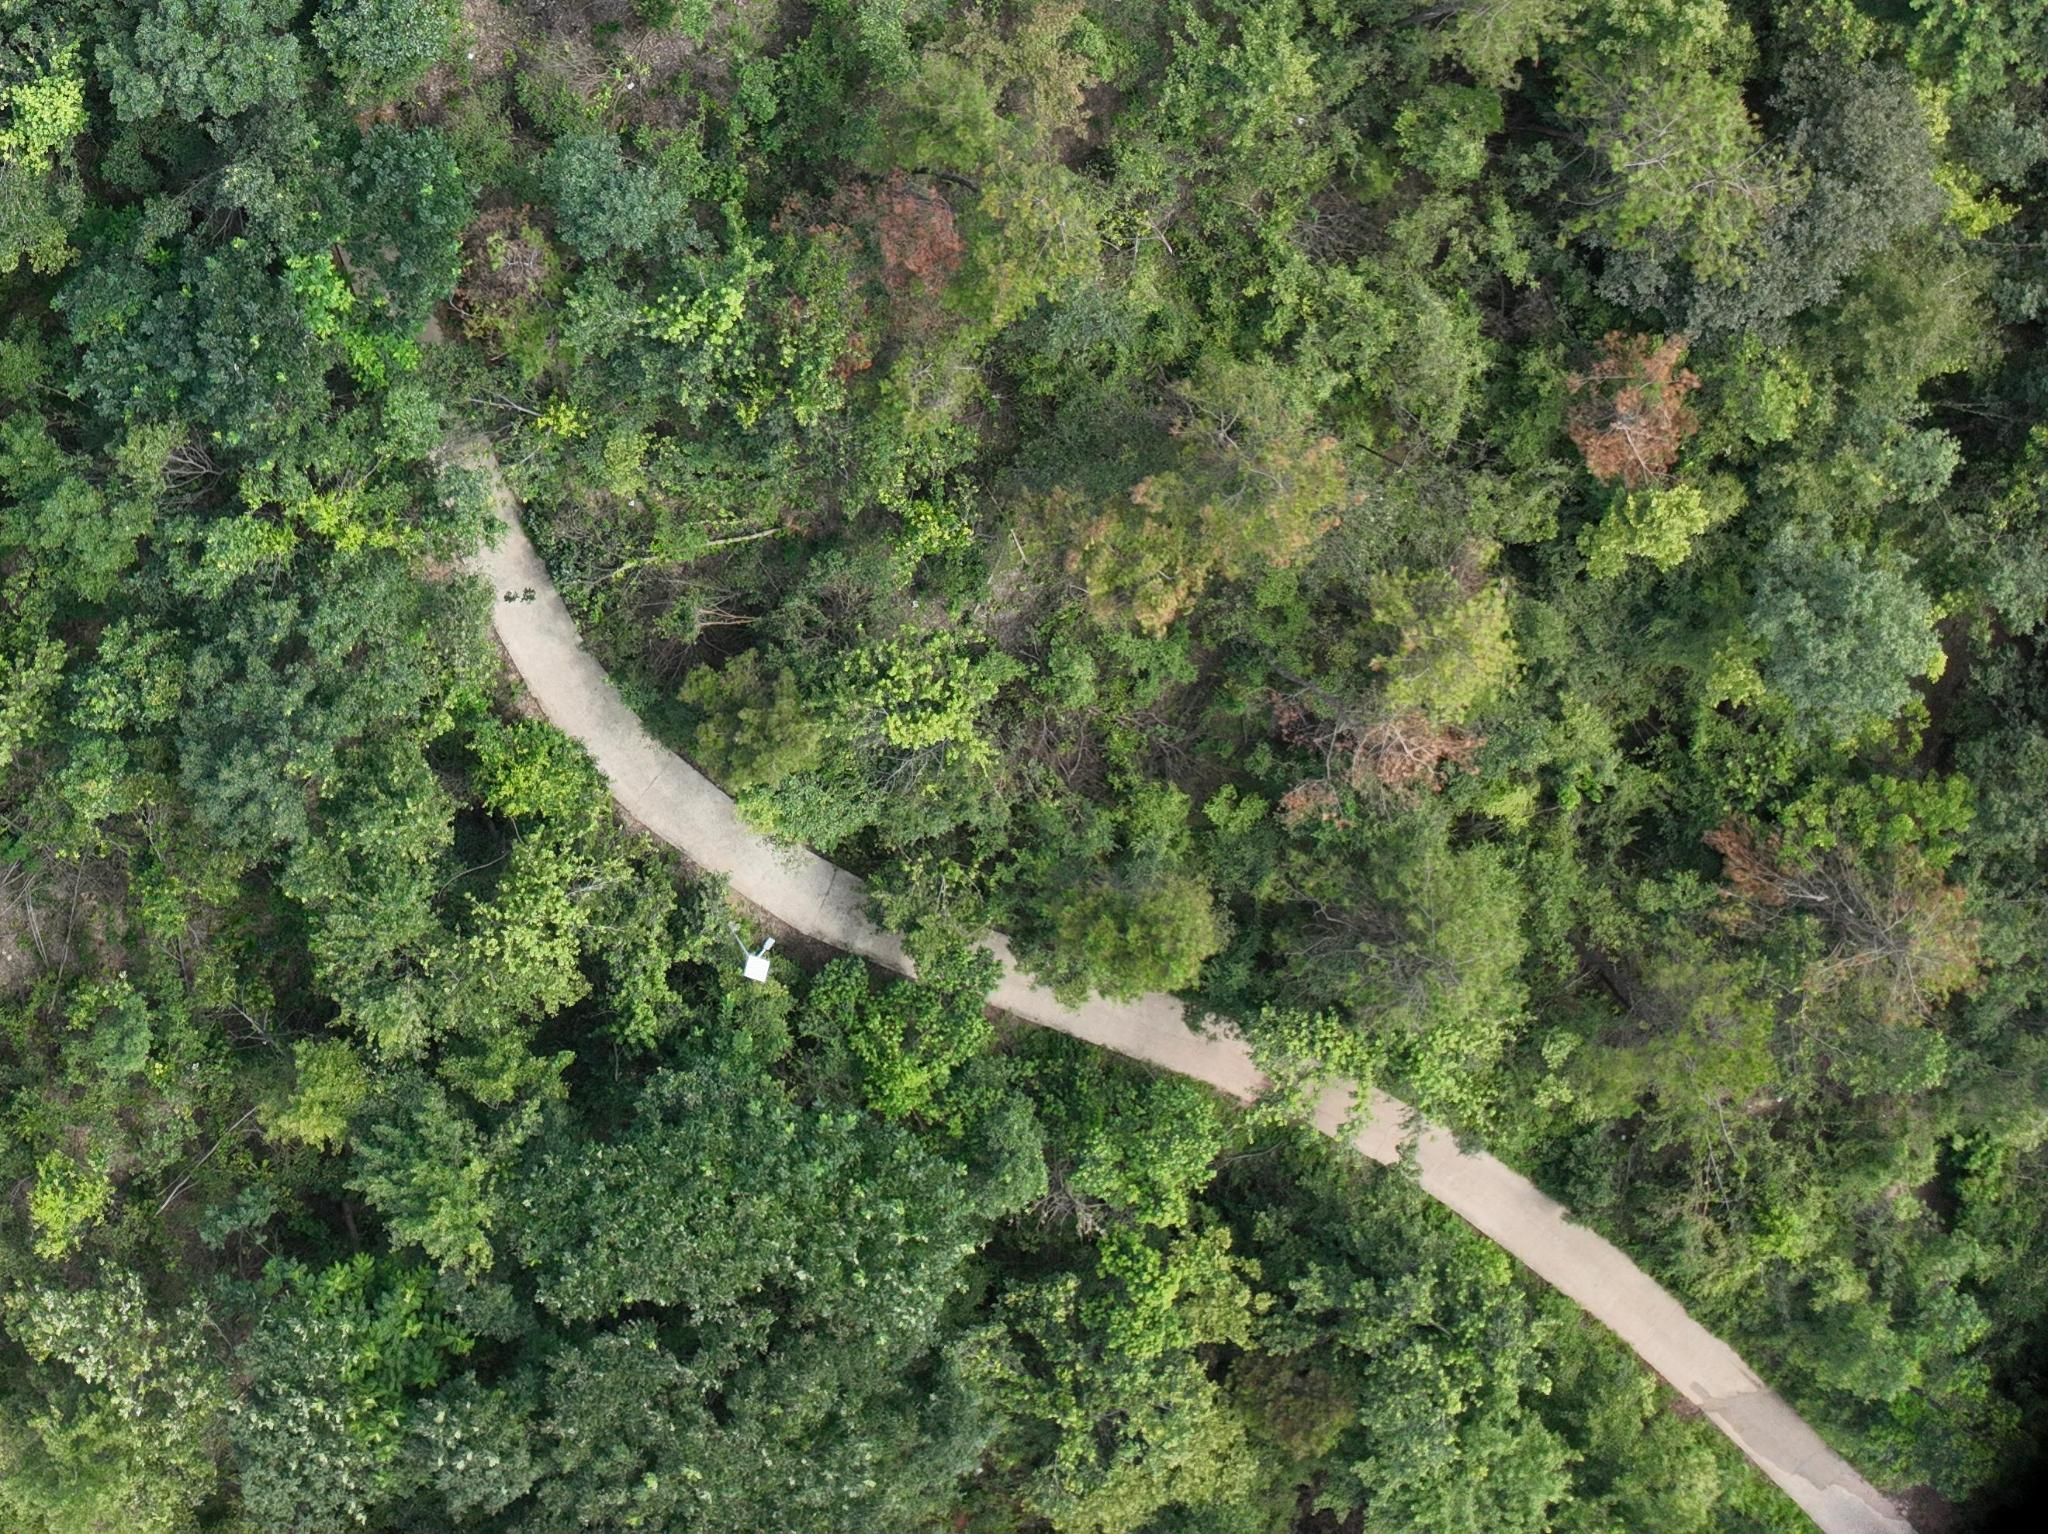heavy: (769, 174, 960, 361), (1268, 683, 1486, 822), (1568, 316, 1705, 482), (1700, 811, 1805, 936)
light: (1207, 430, 1357, 582), (1063, 474, 1200, 636), (1842, 865, 1982, 1023)
